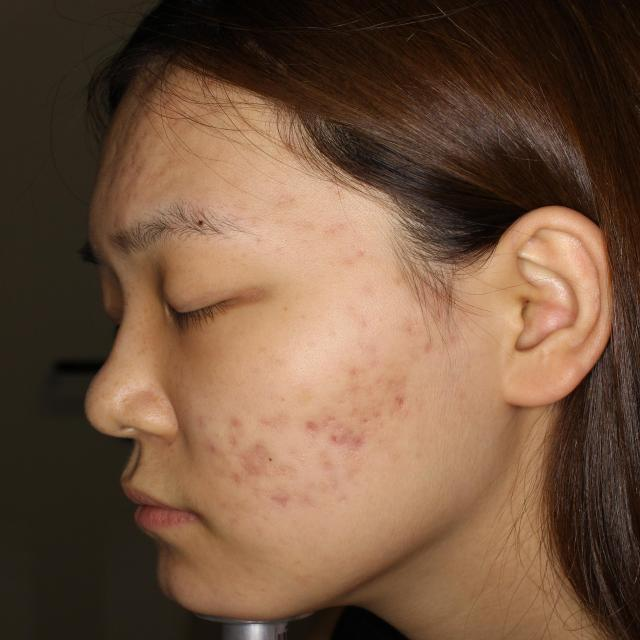pustule: (248, 444, 286, 475), (295, 408, 330, 439), (333, 356, 371, 384), (226, 410, 259, 440), (322, 425, 355, 454), (218, 464, 245, 489), (267, 482, 292, 506), (200, 439, 230, 458), (380, 384, 402, 408), (349, 427, 372, 448), (418, 337, 437, 354)
